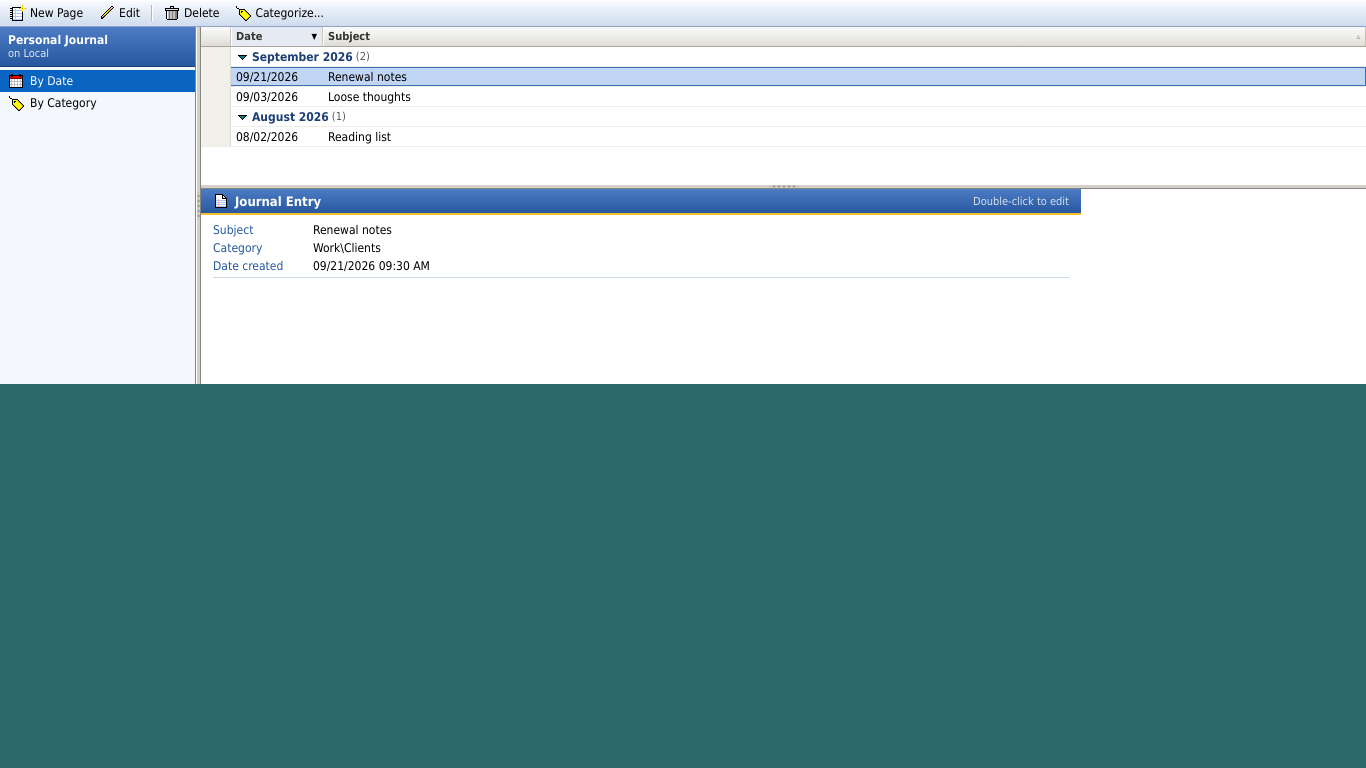
Test: Notebook view › categorizes the selected page
Press the mouse on the element with class "nview-row" showing "09/03/2026 Loose thoughts" at (784,97), box [201,87,1365,107]
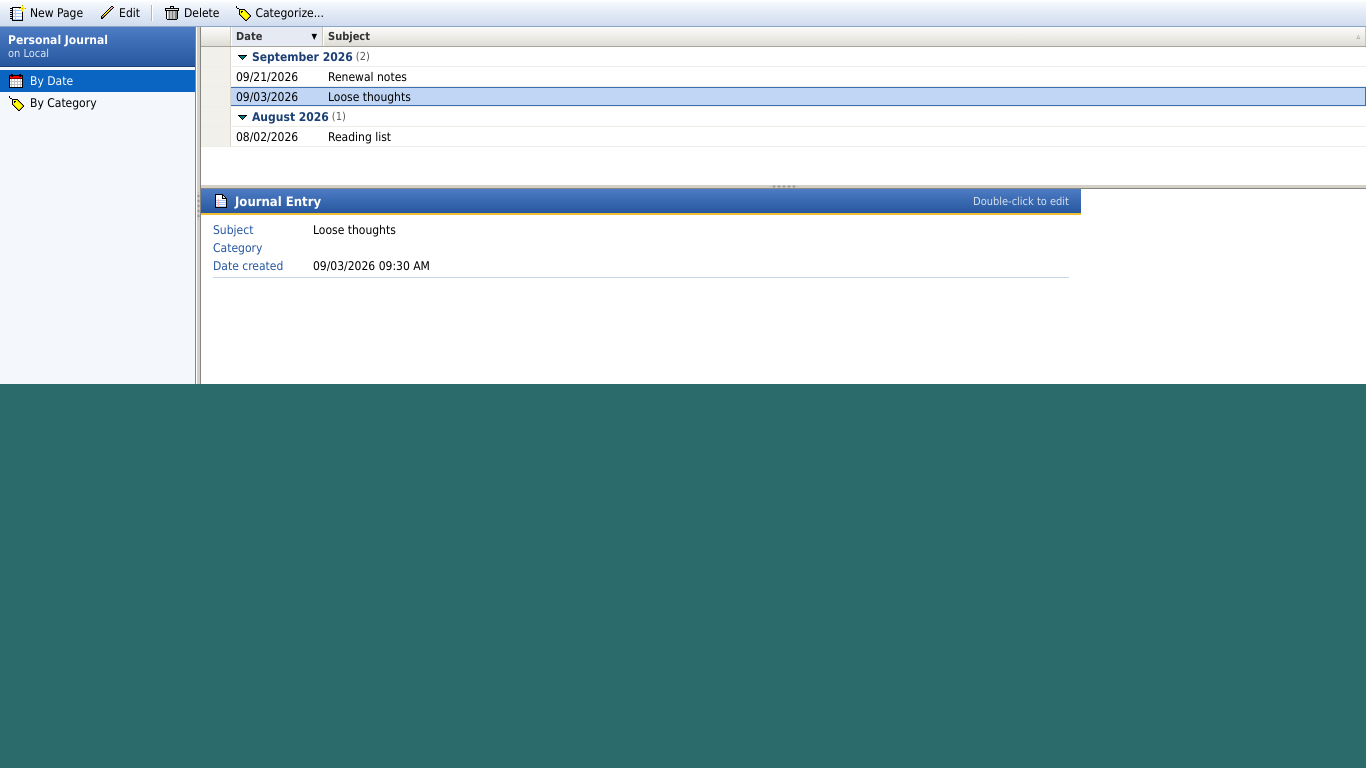
Click the button titled "Categorize..." at (280,13), box [228,2,332,24]
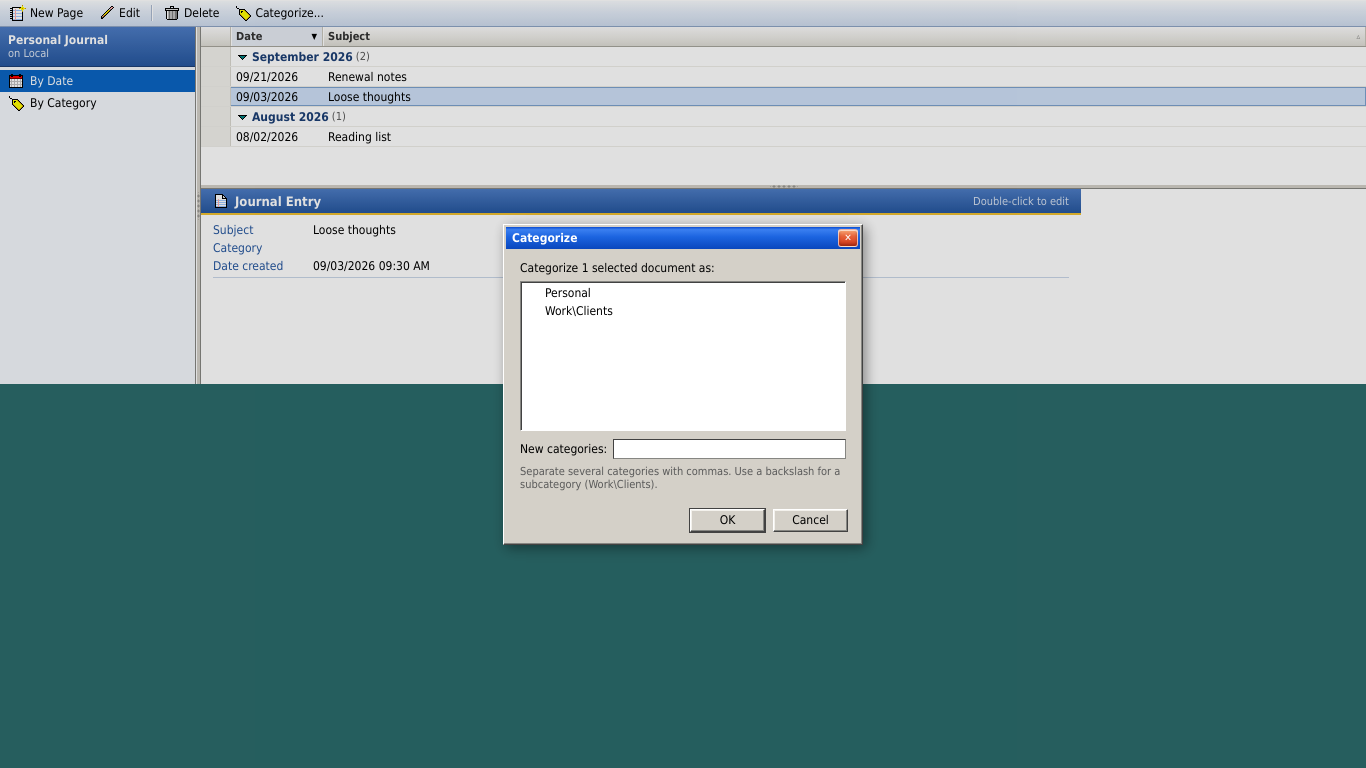
expect the text "Categorize 1 selected document as:" is shown: met, box [520,260,715,274]
Click the option "Personal" at (568,292), box [545,286,591,300]
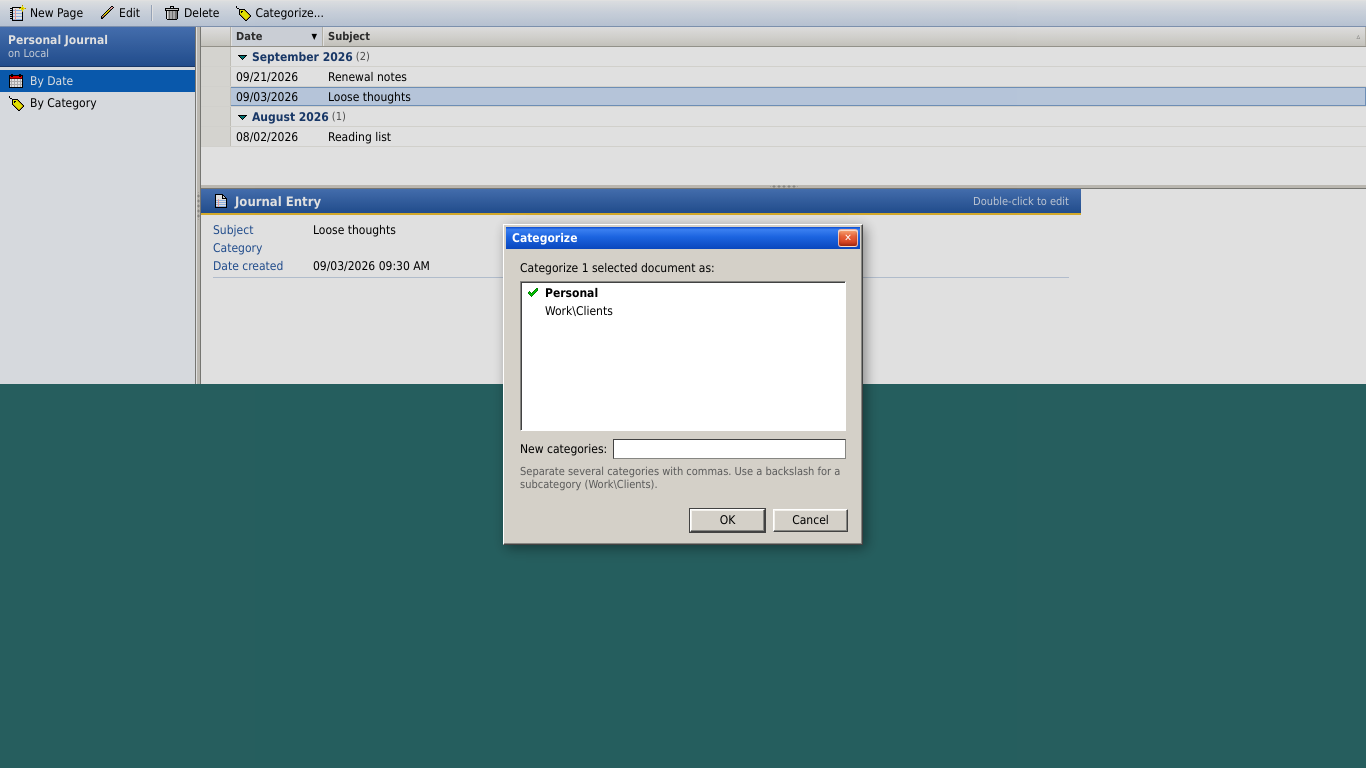
Type "Ideas" into the field labelled "New categories:" at (730,448), box [613,438,846,458]
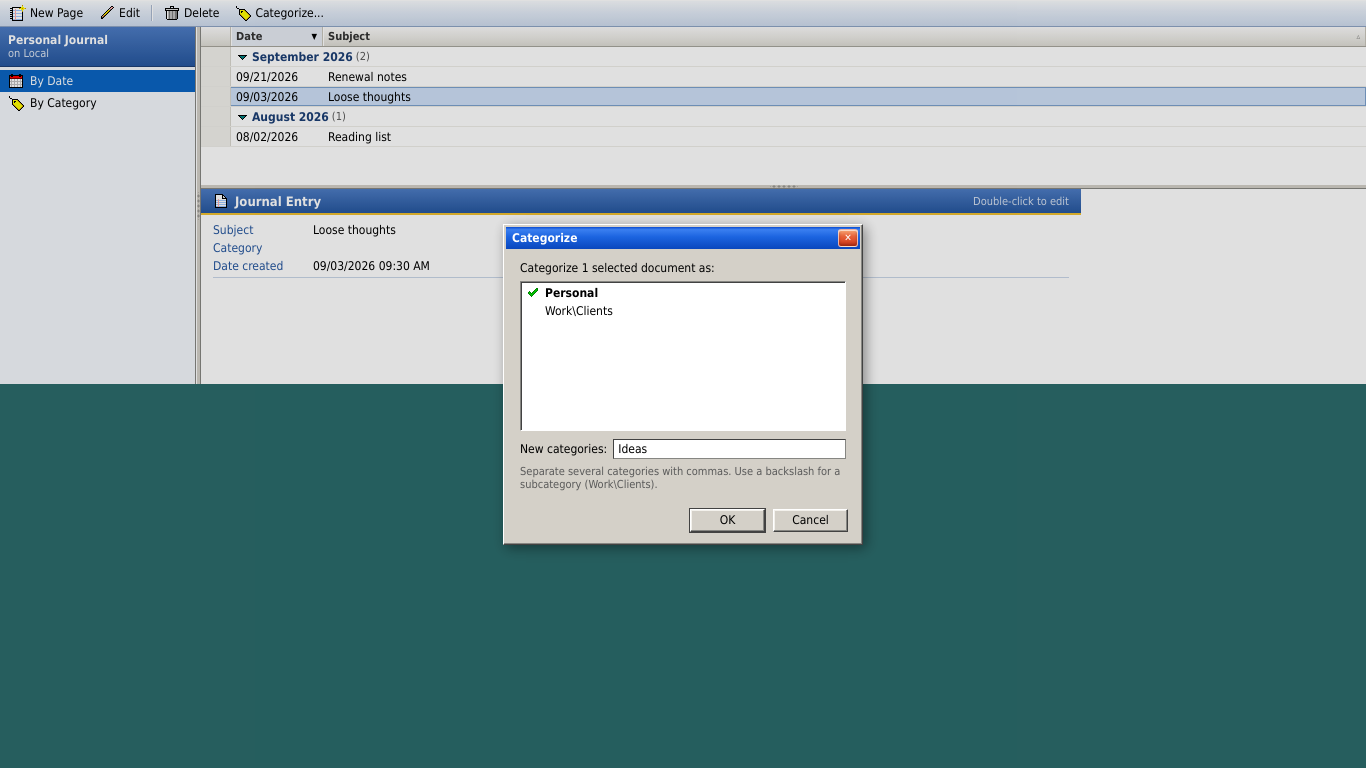
Click the button "OK" at (728,520), box [690,508,765,532]
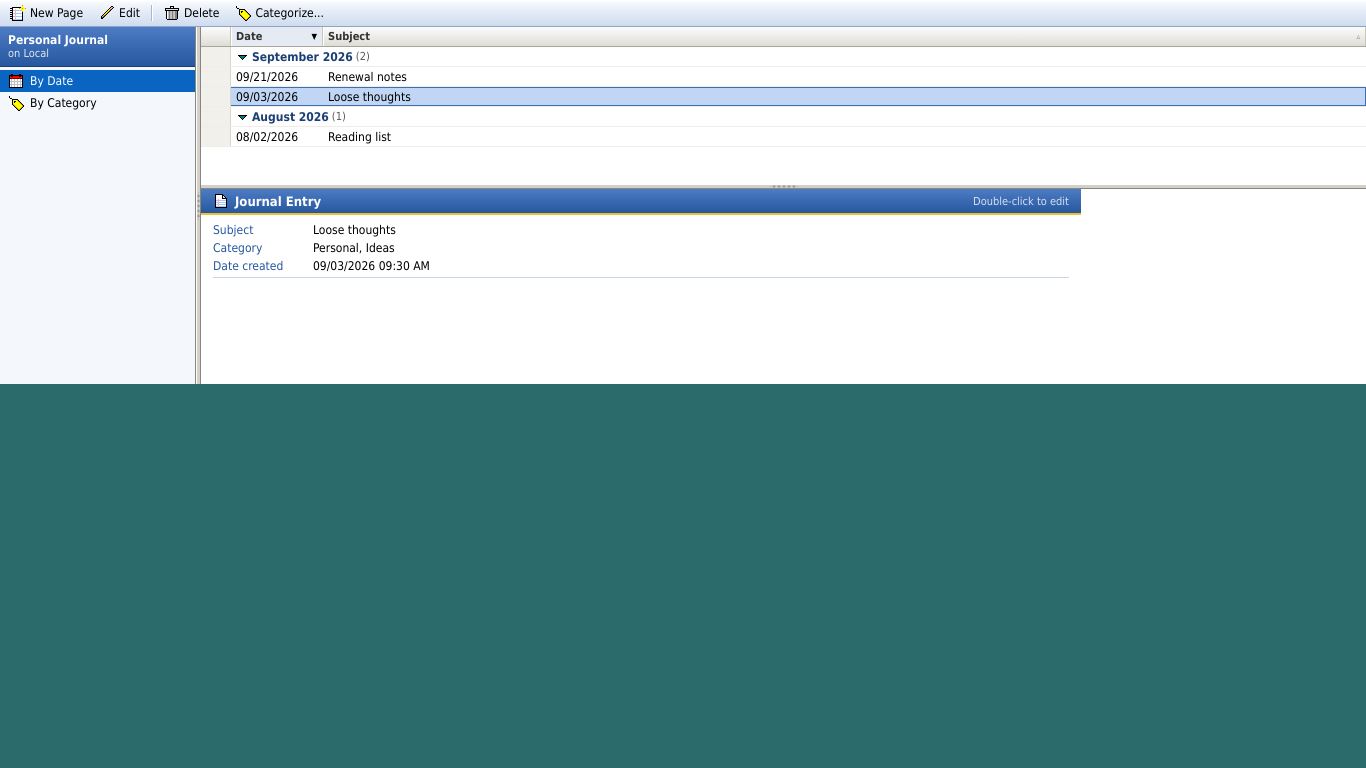
expect the text "Personal, Ideas" is shown: met, box [313,239,395,257]
